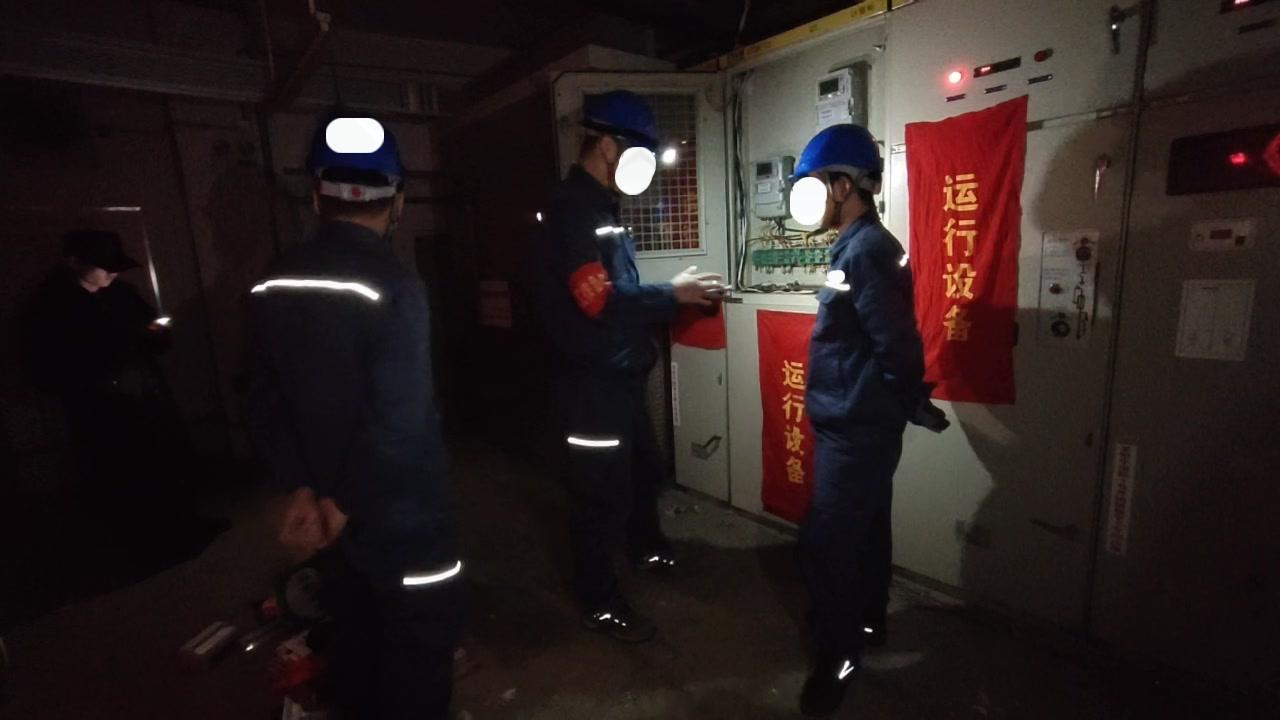halt: (304, 119, 411, 234), (791, 126, 889, 229), (577, 92, 665, 190)
inear: (588, 133, 630, 178), (827, 174, 862, 217)
unhalt: (66, 233, 135, 297)
